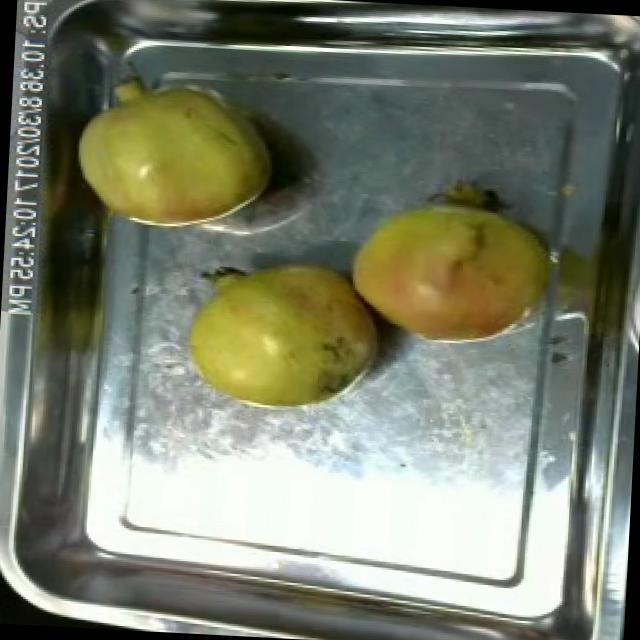fruit: (334, 163, 570, 361), (166, 243, 396, 432), (67, 68, 286, 242)
